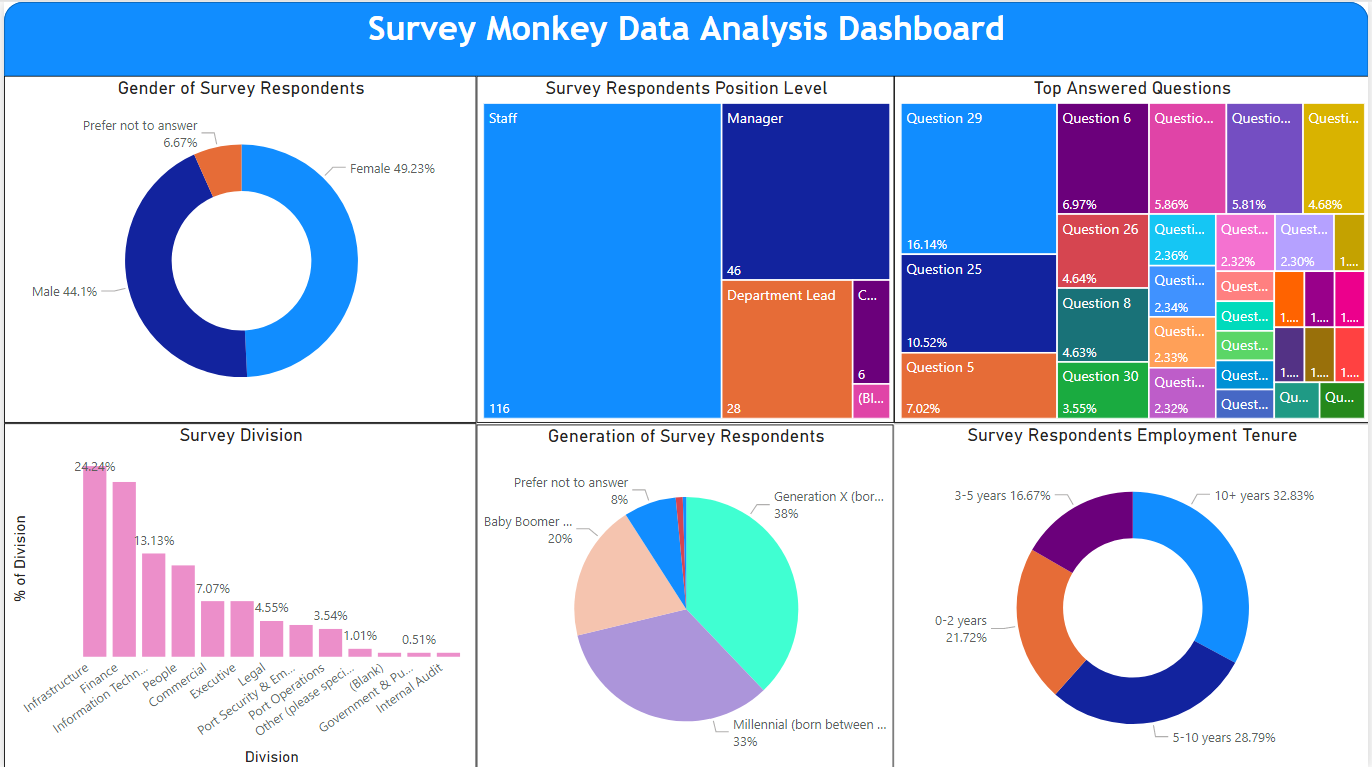

Layout of this report page (visuals, bound fields, positions):
{"tool":"powerbi","page":{"name":"Dashboard 1","canvas":[1280,720],"ordinal":0},"visuals":[{"type":"columnChart","title":"Survey Division","fields":{"Category":["Personal Details.Division"],"Y":["CountNonNull(Personal Details.Respondent ID)"]},"box":[0,395.3,442.9,324.6],"z":0},{"type":"donutChart","title":"Gender of Survey Respondents","fields":{"Category":["Personal Details.Gender"],"Y":["Count(Personal Details.Respondent ID)"]},"box":[0,69.6,442.9,325.8],"z":1000},{"type":"pieChart","title":"Generation of Survey Respondents","fields":{"Category":["Personal Details.Generation"],"Y":["Count(Personal Details.Respondent ID)"]},"box":[442.9,395.3,391.7,324.6],"z":2000},{"type":"donutChart","title":"Survey Respondents Employment Tenure","fields":{"Category":["Personal Details.Tenure"],"Y":["Count(Personal Details.Respondent ID)"]},"box":[834.6,395.3,445.4,324.6],"z":3000},{"type":"treemap","title":"Survey Respondents Position Level","fields":{"Group":["Personal Details.Position Level"],"Values":["Count(Personal Details.Respondent ID)"]},"box":[442.9,69.6,391.7,325.8],"z":4000},{"type":"treemap","title":"Top Answered Questions","fields":{"Group":["Personal Details.Questions"],"Values":["Divide(CountNonNull(Personal Details.Questions), ScopedEval(CountNonNull(Personal Details.Questions), []))"]},"box":[834.6,69.6,445.4,325.8],"z":5000},{"type":"shape","box":[0,0,1280,69.6],"z":5001},{"type":"textbox","box":[0,0,1280,69.6],"z":5003}]}

Visuals, with their boxes in screenshot pixels (x1, y1, x2, y2), scaled from the page's 1280x720 canvas onto the 1372x767 screenshot:
"Survey Division" columnChart: Rect(0, 421, 475, 766)
"Gender of Survey Respondents" donutChart: Rect(0, 74, 475, 421)
"Generation of Survey Respondents" pieChart: Rect(475, 421, 895, 766)
"Survey Respondents Employment Tenure" donutChart: Rect(895, 421, 1371, 766)
"Survey Respondents Position Level" treemap: Rect(475, 74, 895, 421)
"Top Answered Questions" treemap: Rect(895, 74, 1371, 421)
shape: Rect(0, 0, 1371, 74)
textbox: Rect(0, 0, 1371, 74)
